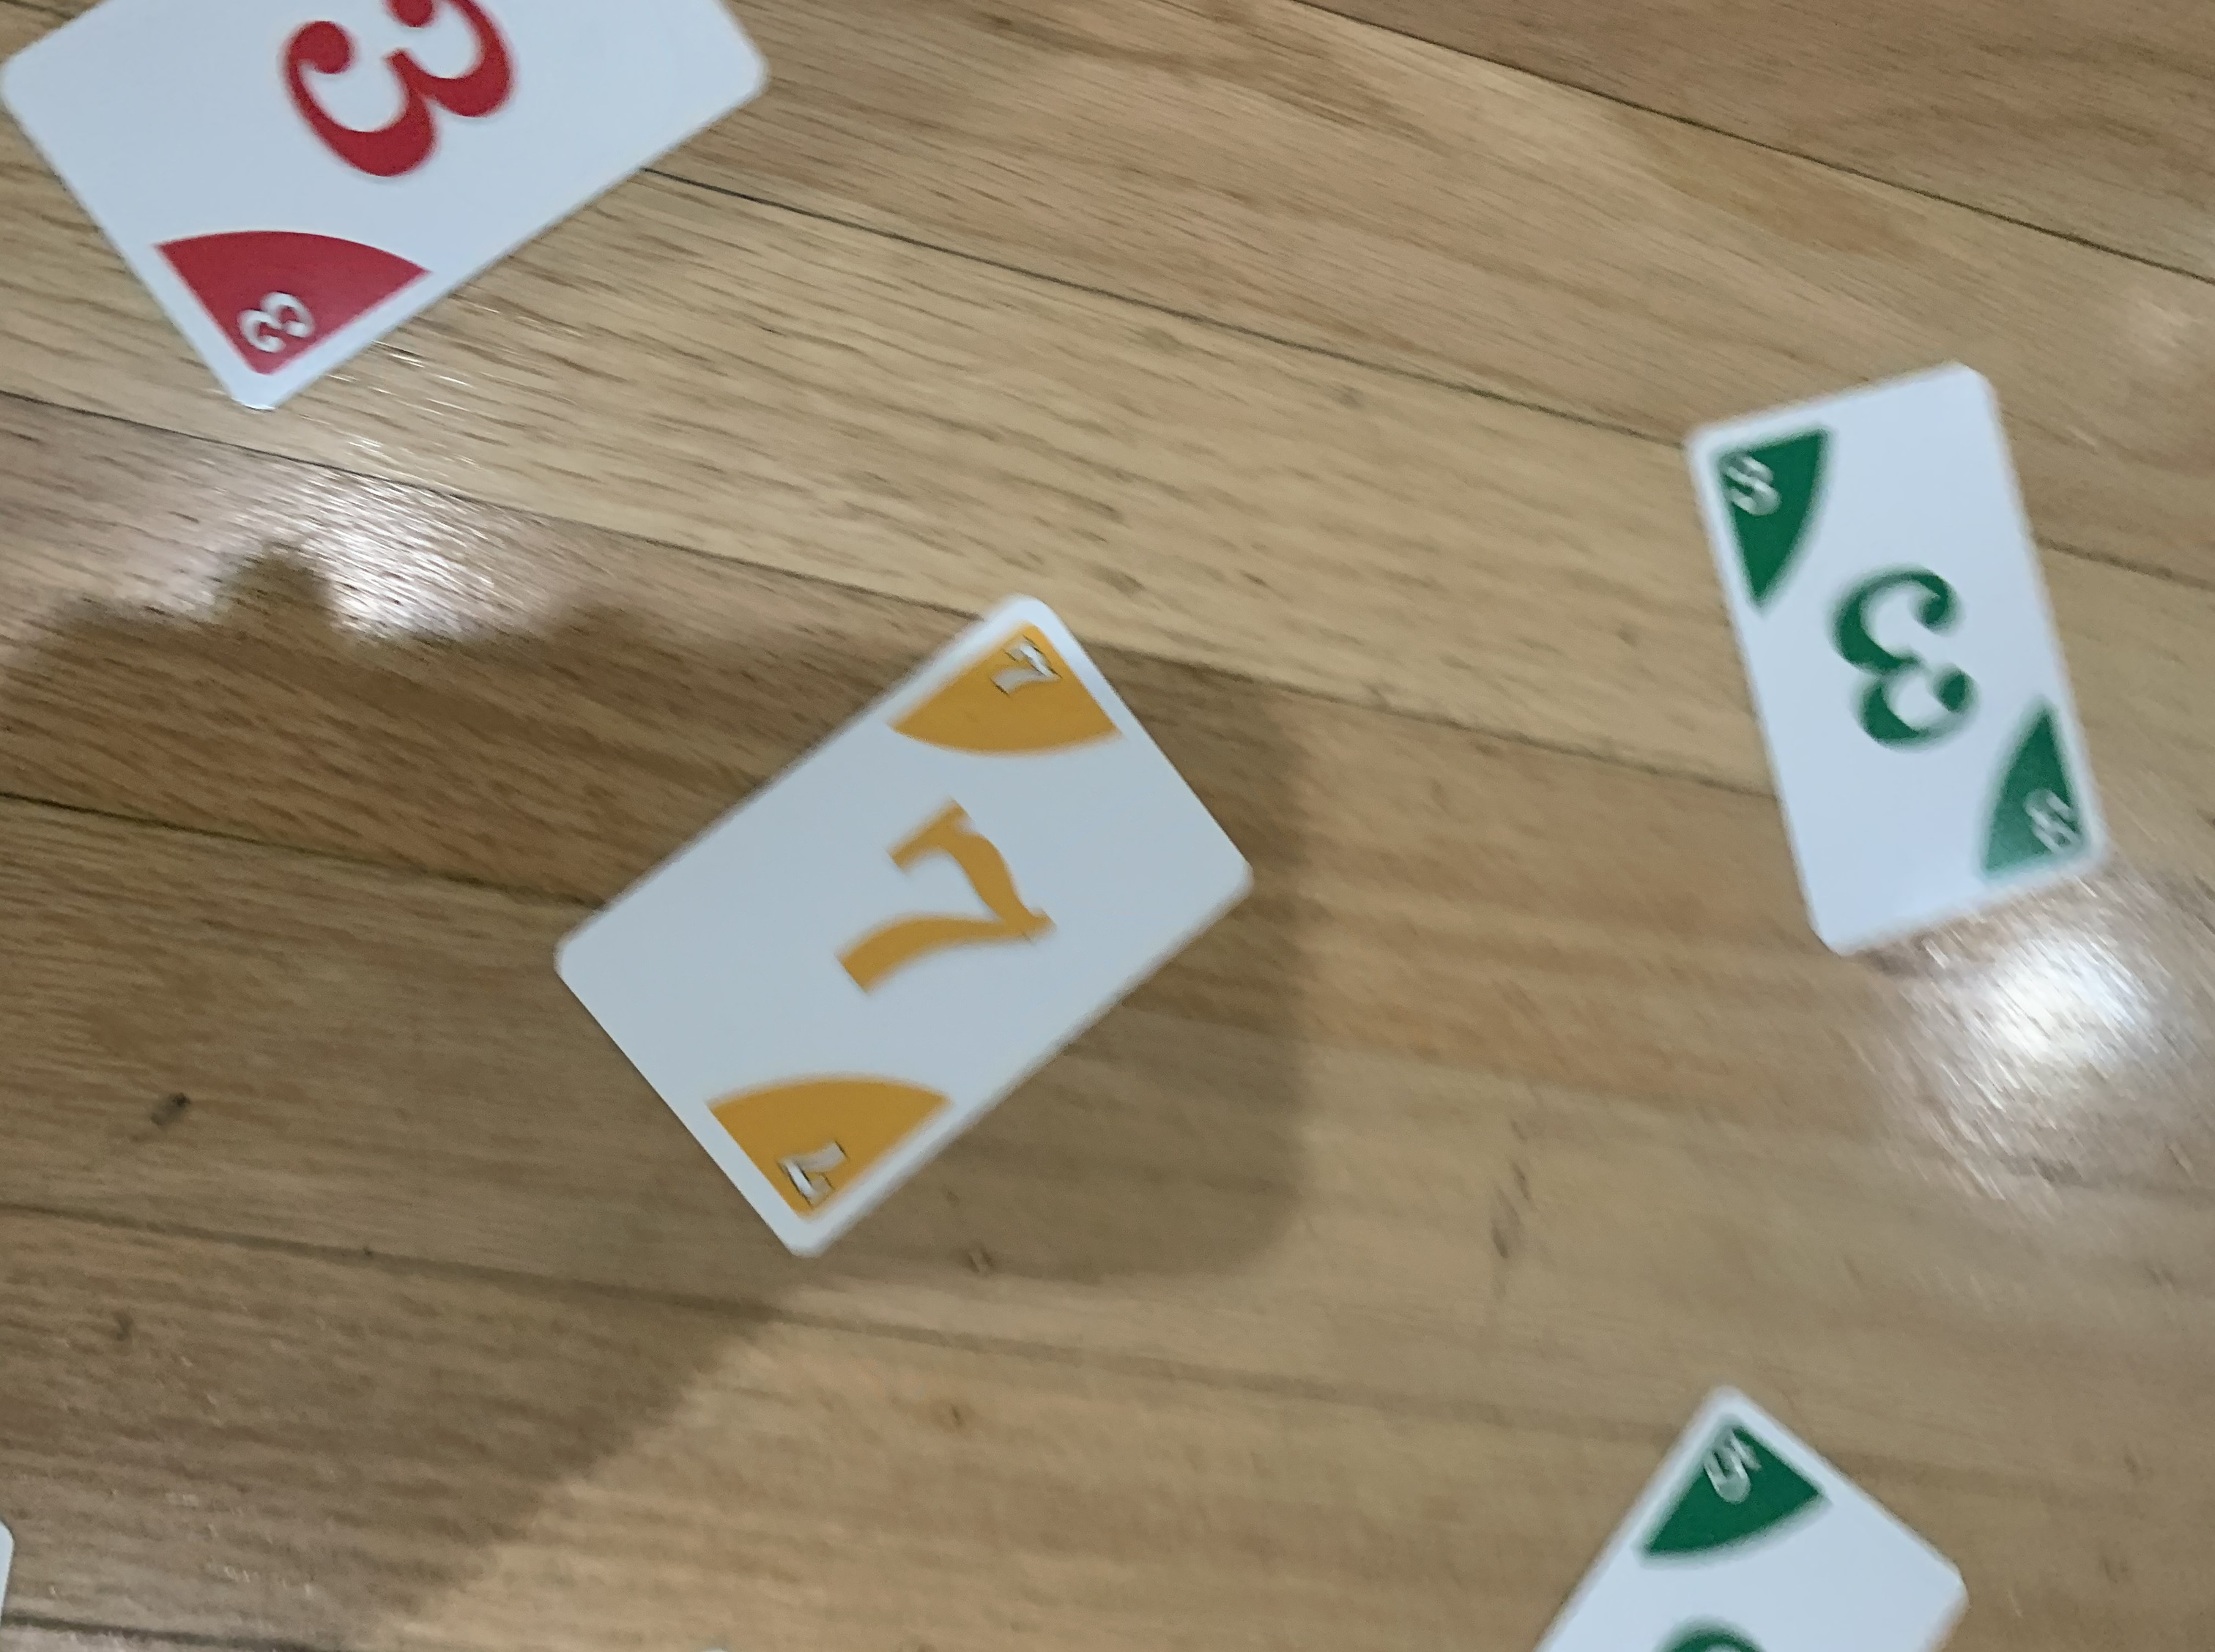seven: (529, 574, 1269, 1263)
three: (10, 0, 779, 444), (1644, 338, 2116, 965)
